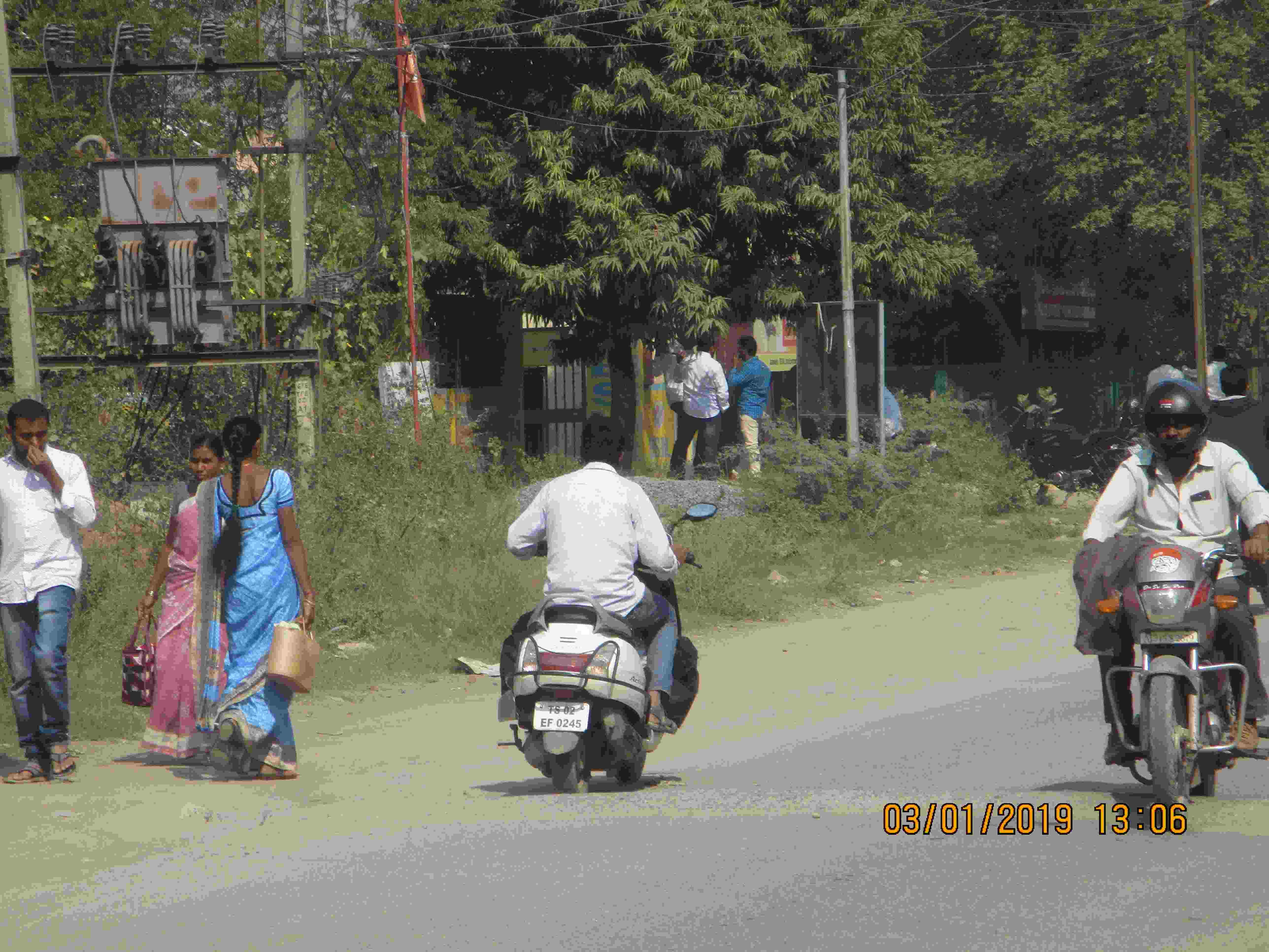plate: (525, 693, 589, 740)
